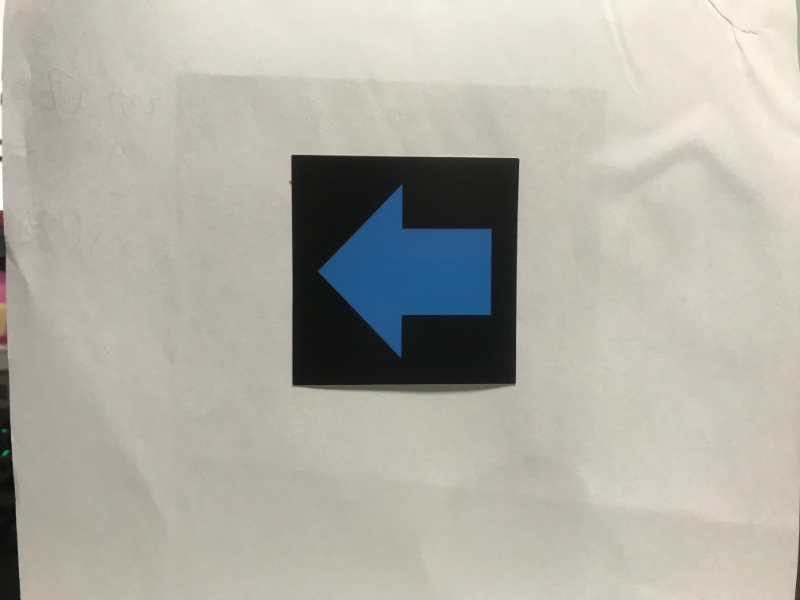LA-4: (300, 163, 513, 379)
